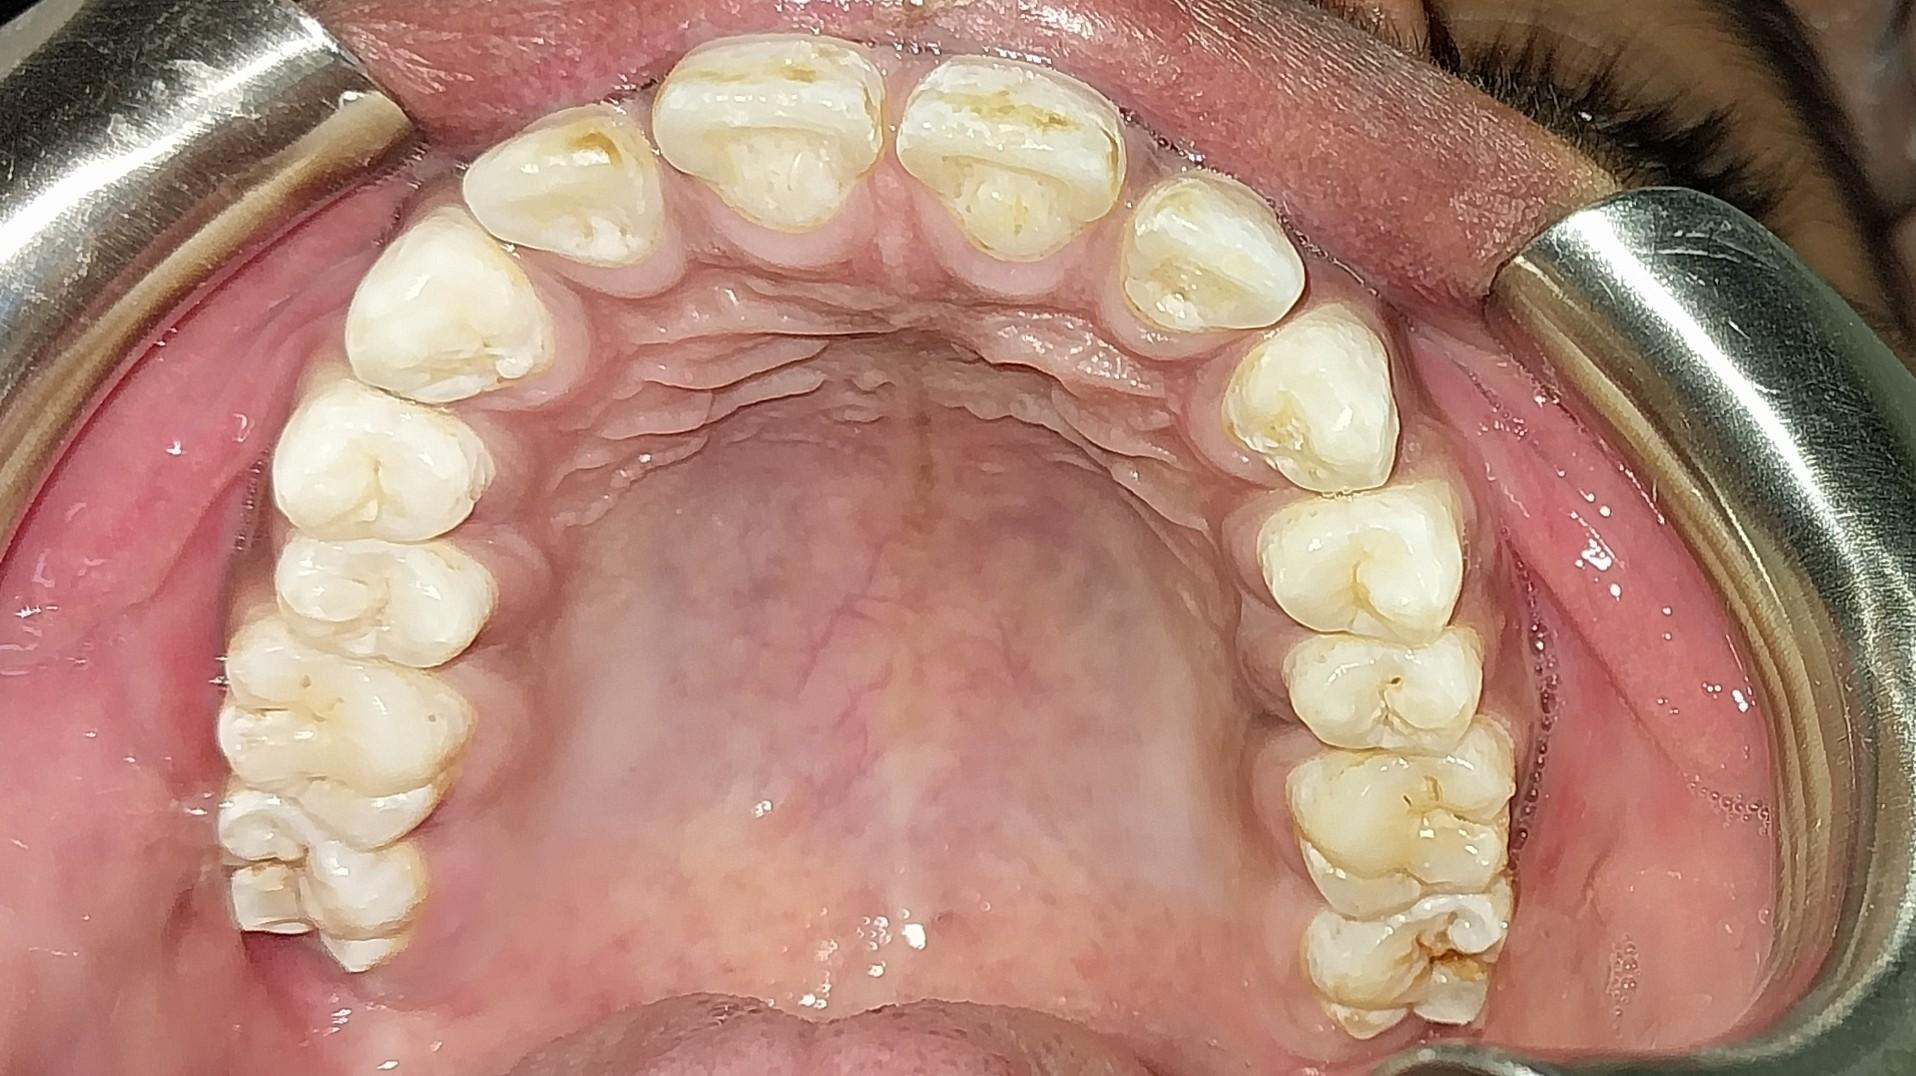D: (1281, 715, 1519, 912), (216, 785, 424, 973), (1302, 886, 1529, 1043), (1282, 628, 1487, 764)
